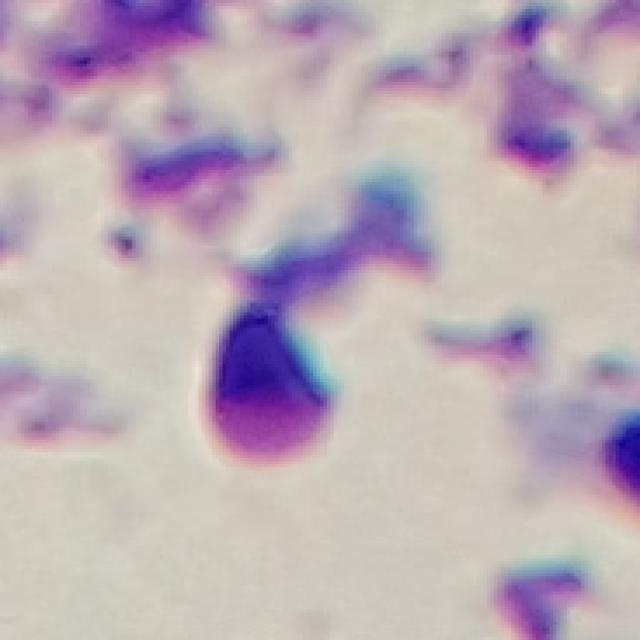non-sperm: (207, 173, 433, 462)
